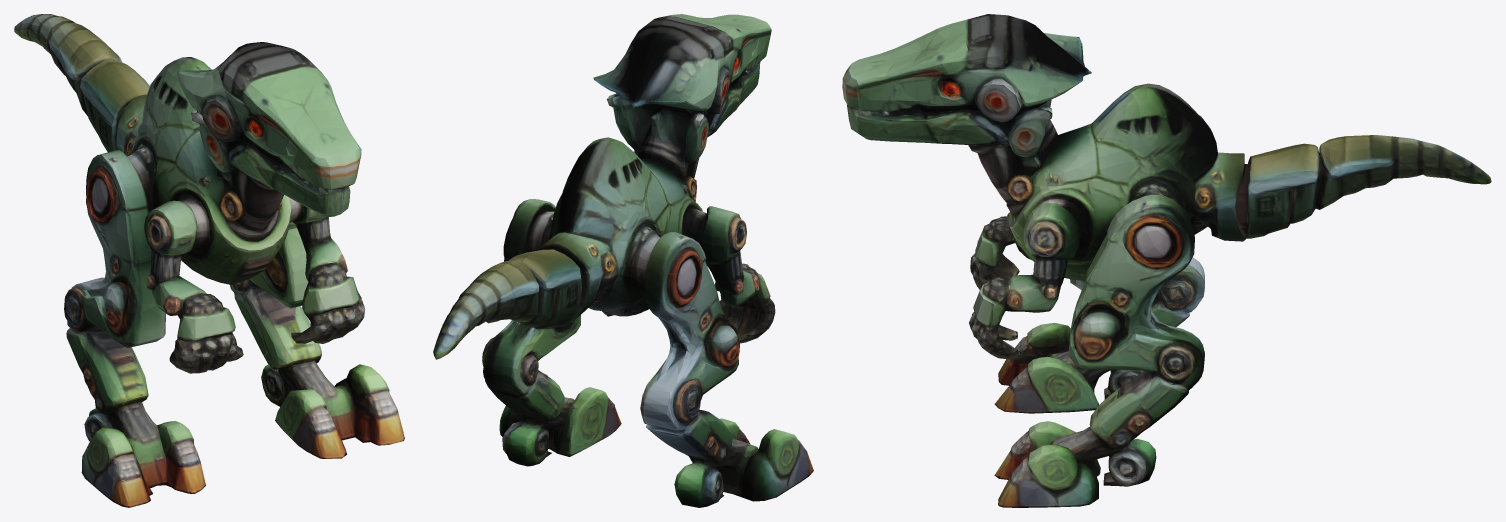
3 views of the same model, side by side, from view 1: azimuth 30°, elevation 25°; view 2: azimuth 150°, elevation 25°; view 3: azimuth 270°, elevation 25° (orthographic). The views are drawn at different scales.
Parts seen in each view (by area): view 1: world; view 2: world; view 3: world.
Part boxes in pixels (x1,y1,x2,y2): world: (14,14,404,507); world: (433,14,813,507); world: (842,14,1491,507).
Size of the model in its own units: 0.5021 by 0.7042 by 0.9923.
1 material, 1 textured.
